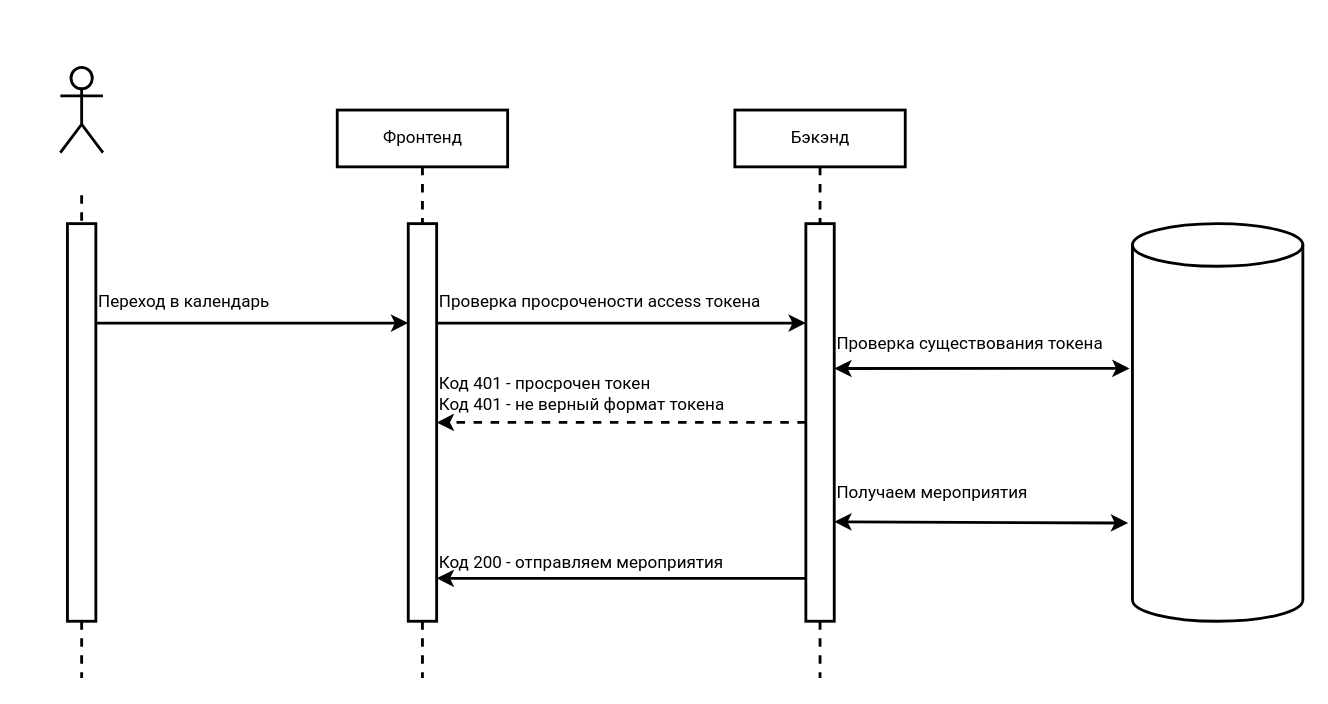
Image size: 1328x704. Some labels were removed from this diagram. The centre of each missing label's shape, as x and y in pixels:
База данных: pixel 1217 422
Пользователь: pixel 81 109
